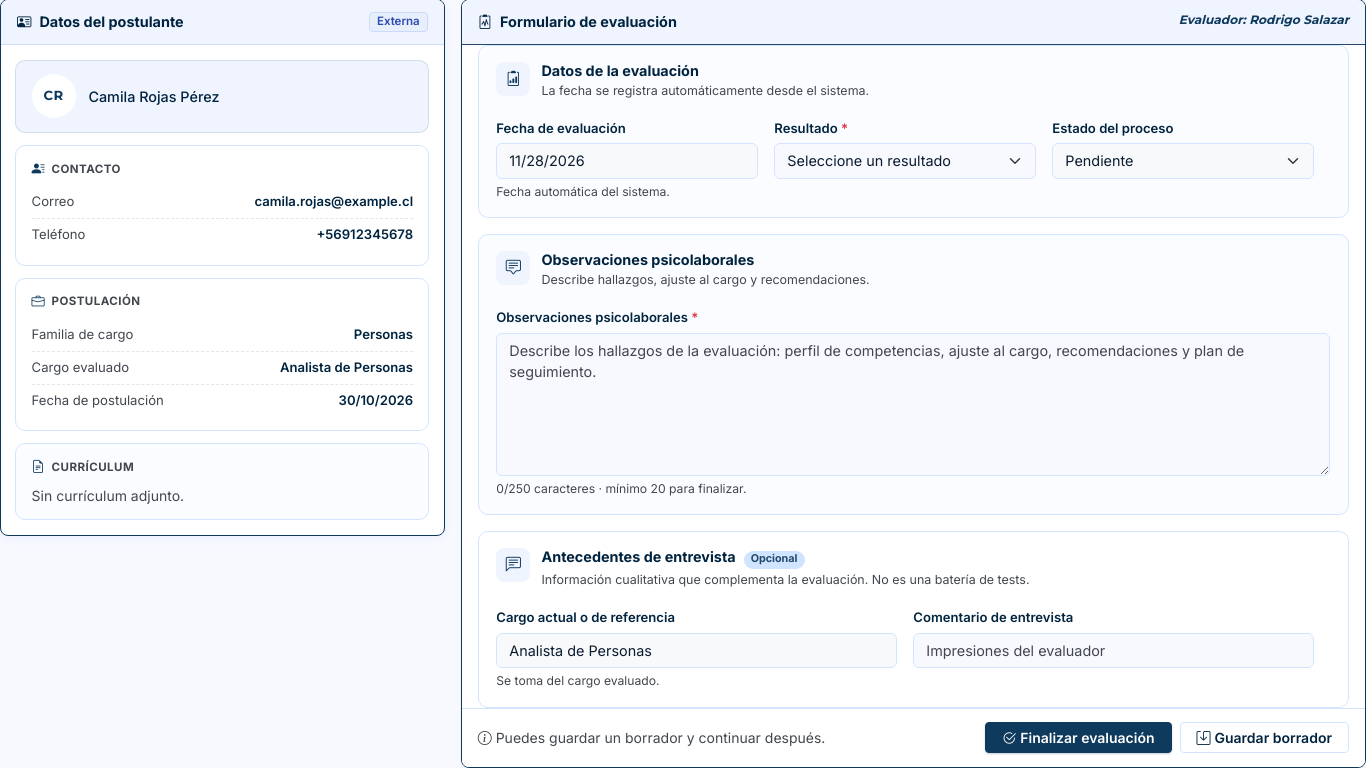
EvaluadorEvaluar › valida resultado y observaciones antes de finalizar
The image size is (1366, 768).
(page scrolled)
What coordinates should you click on to do the following:
click the button "Finalizar evaluación"
I would click on:
 (1078, 738)
Its box is [985, 722, 1172, 753].
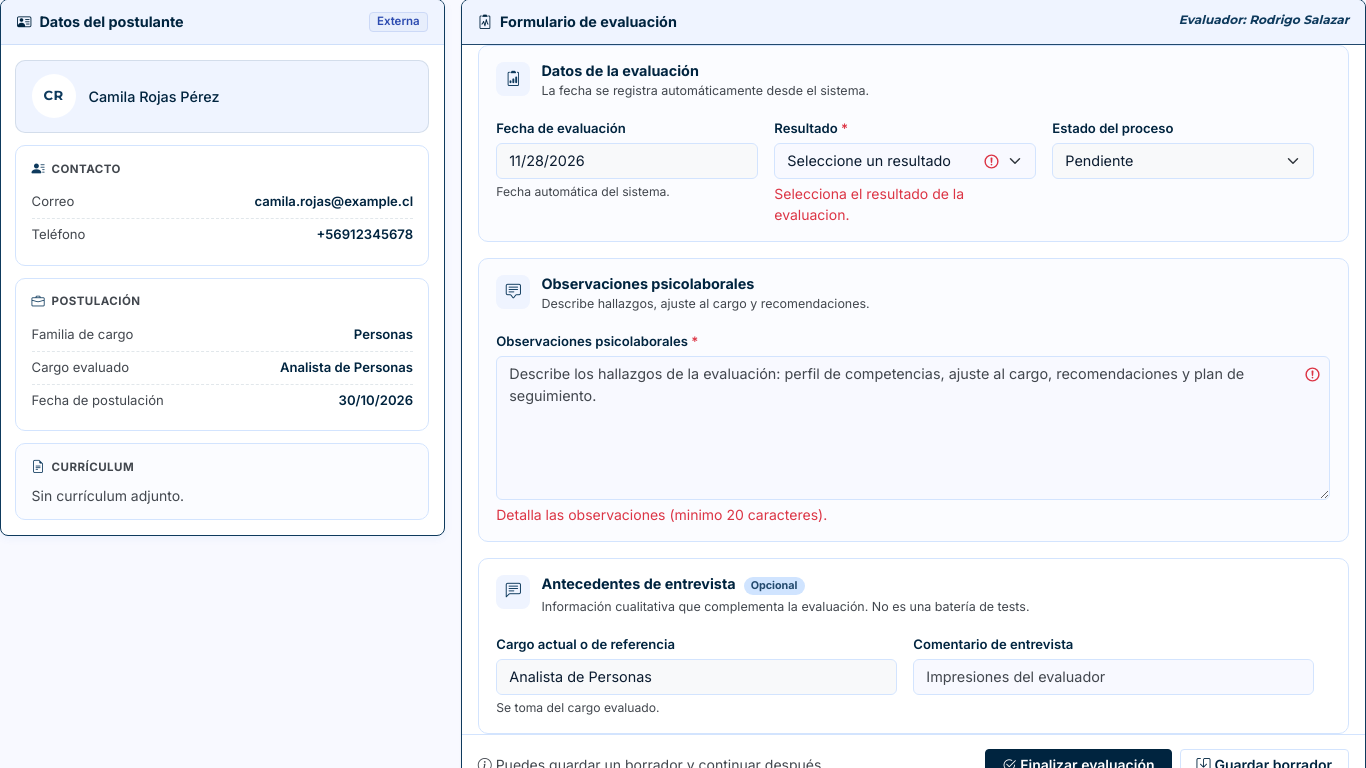
Expected: the text "Selecciona el resultado de la evaluacion." is shown, [774, 185, 964, 223]
Expected: the text "Detalla las observaciones (minimo 20 caracteres)." is shown, [496, 506, 827, 523]
